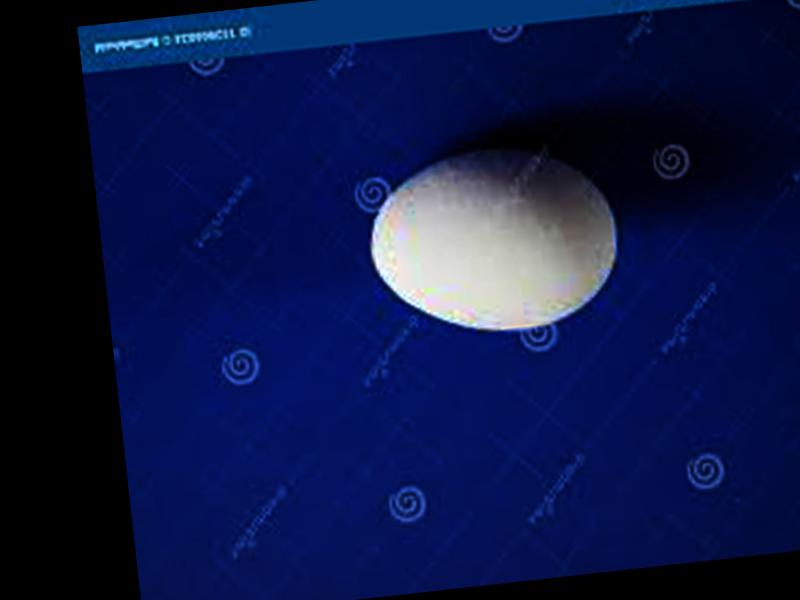Eggs: (360, 135, 627, 343)
